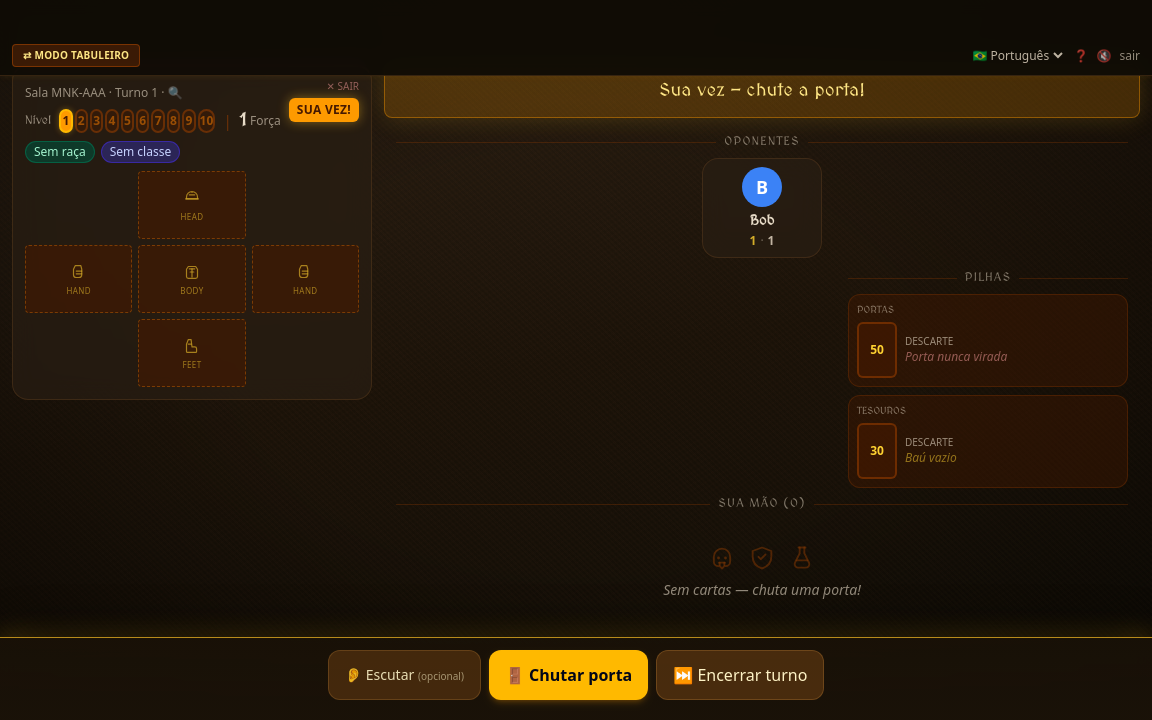
Scenario: App › sound toggle button starts as 🔇 and flips to 🔊
The image size is (1152, 720).
Click the button named "Alternar som" at (1104, 56), box [1096,48,1112,64]
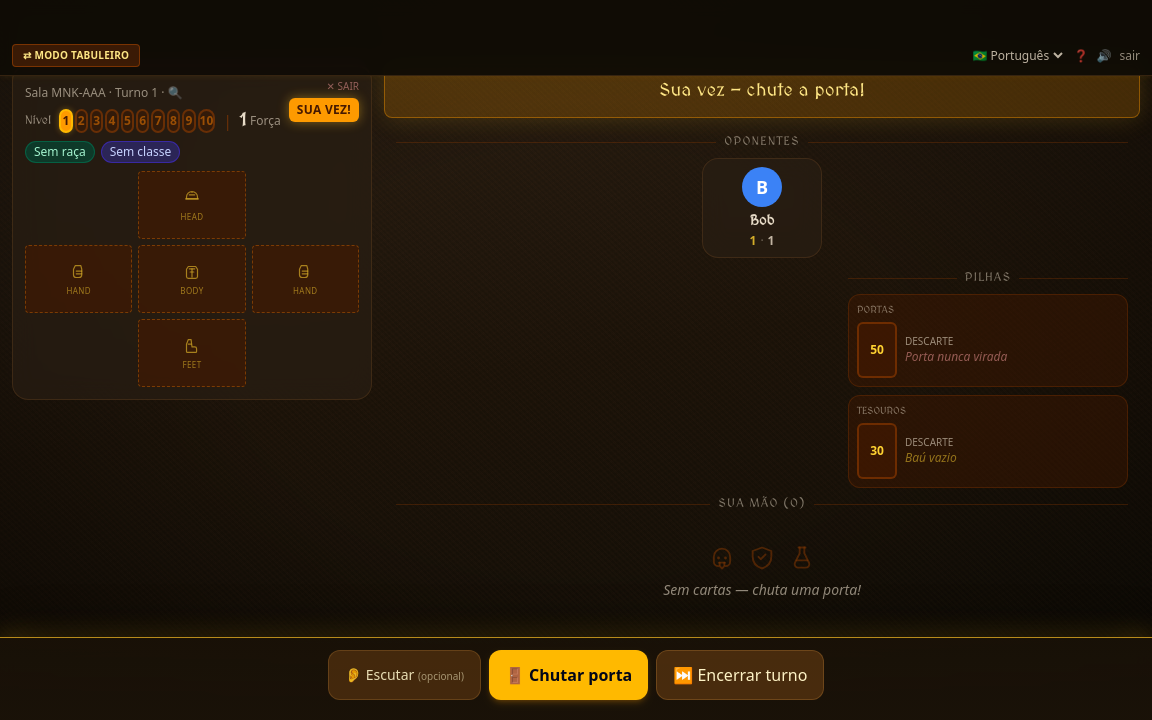
Now the button named "Alternar som" reads "🔊", box [1096,48,1112,64]
